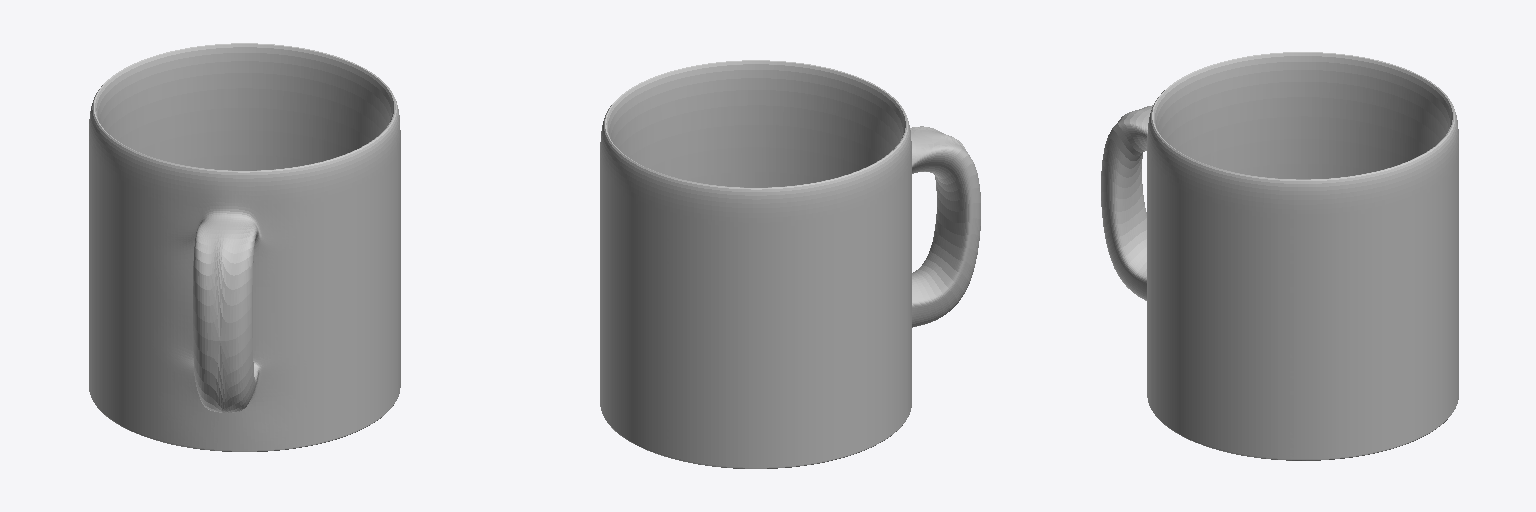
The model's file is newMug.obj.
3 renders of one model, left to right at view 1: azimuth 30°, elevation 25°; view 2: azimuth 150°, elevation 25°; view 3: azimuth 270°, elevation 25°, orthographic.
Visible parts, largest first — view 1: tea_mug_Cylinder; view 2: tea_mug_Cylinder; view 3: tea_mug_Cylinder.
Boxes of the visible parts, <box> form: tea_mug_Cylinder: <box>89,43,400,451</box>; tea_mug_Cylinder: <box>600,60,980,468</box>; tea_mug_Cylinder: <box>1101,52,1458,460</box>.
Bounding box in the file's own units: 1.99 × 1.97 × 2.28.